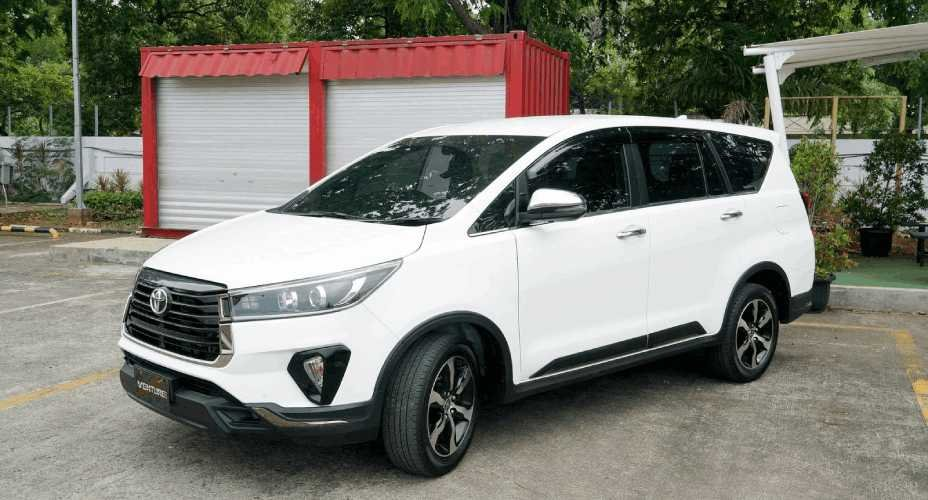mobil: (114, 108, 827, 474)
